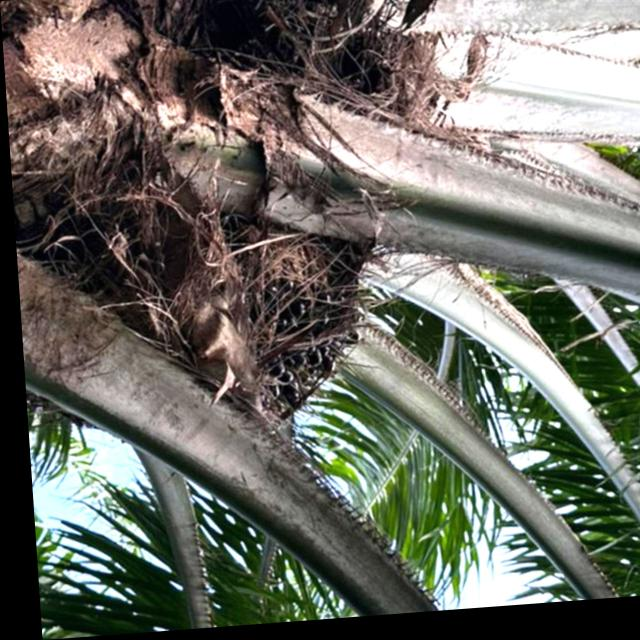almost: (201, 205, 380, 421)
